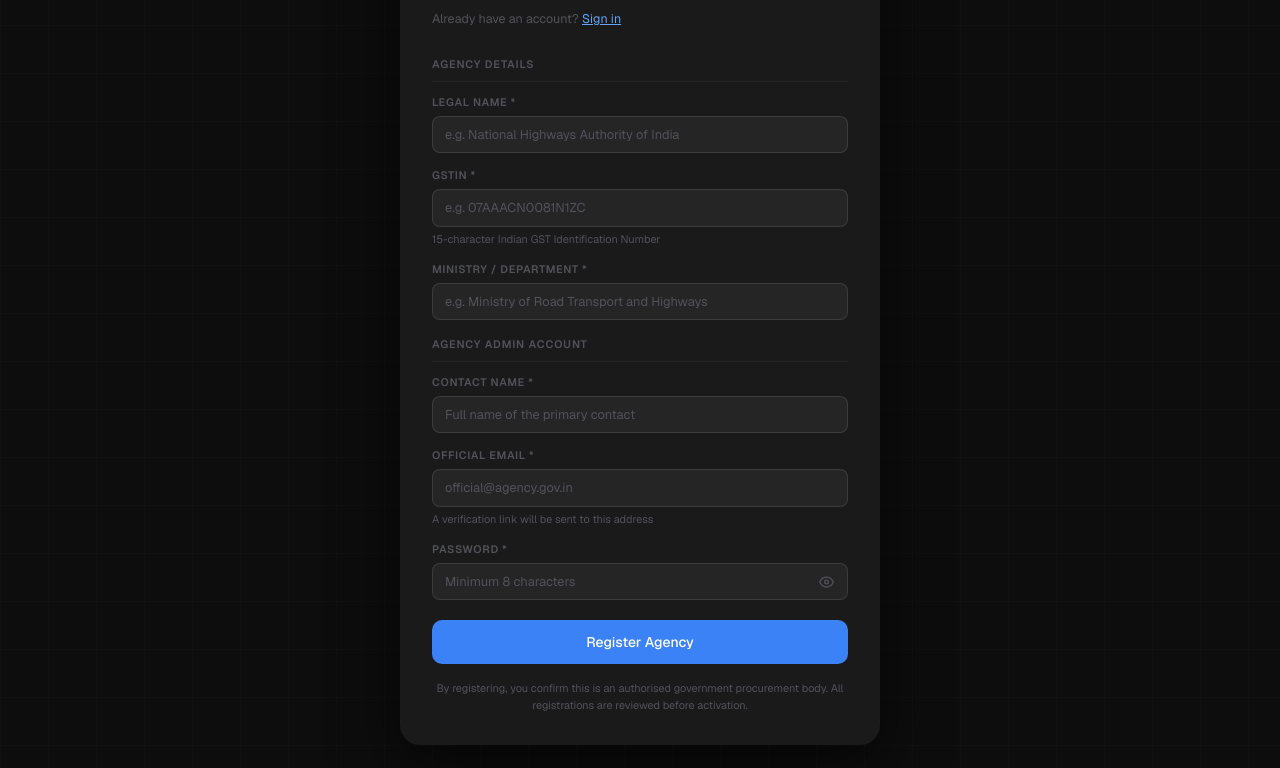
Scenario: AgencyRegistrationForm — field-level validation (Requirement 1.7) › clears a field error when the user starts typing in that field
This screenshot has width=1280, height=768.
(page scrolled)
Click the button "Register Agency". click: (640, 642)
box: [432,620,848,664]
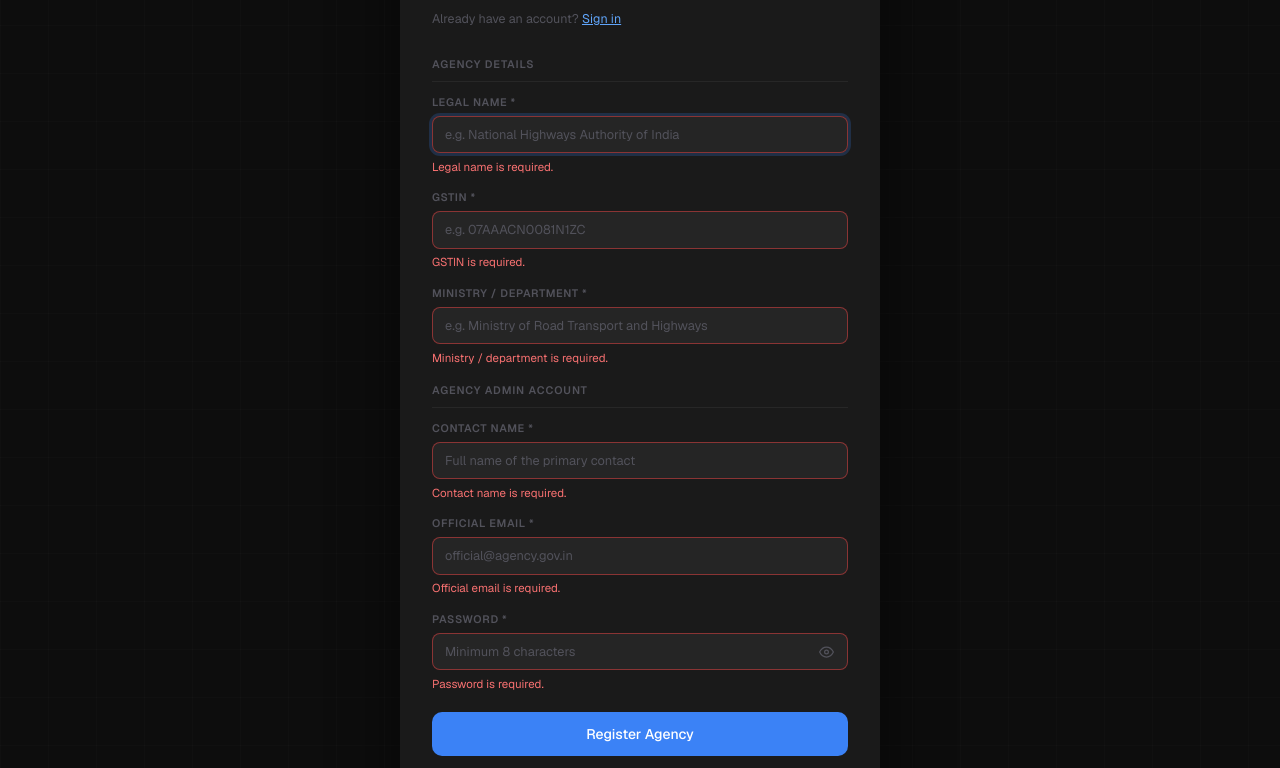
Check: the text "Legal name is required." is shown, box [432,159,553,174]
Type "A" into the field labelled "Legal Name *". click: (640, 134)
box: [432,116,848,153]
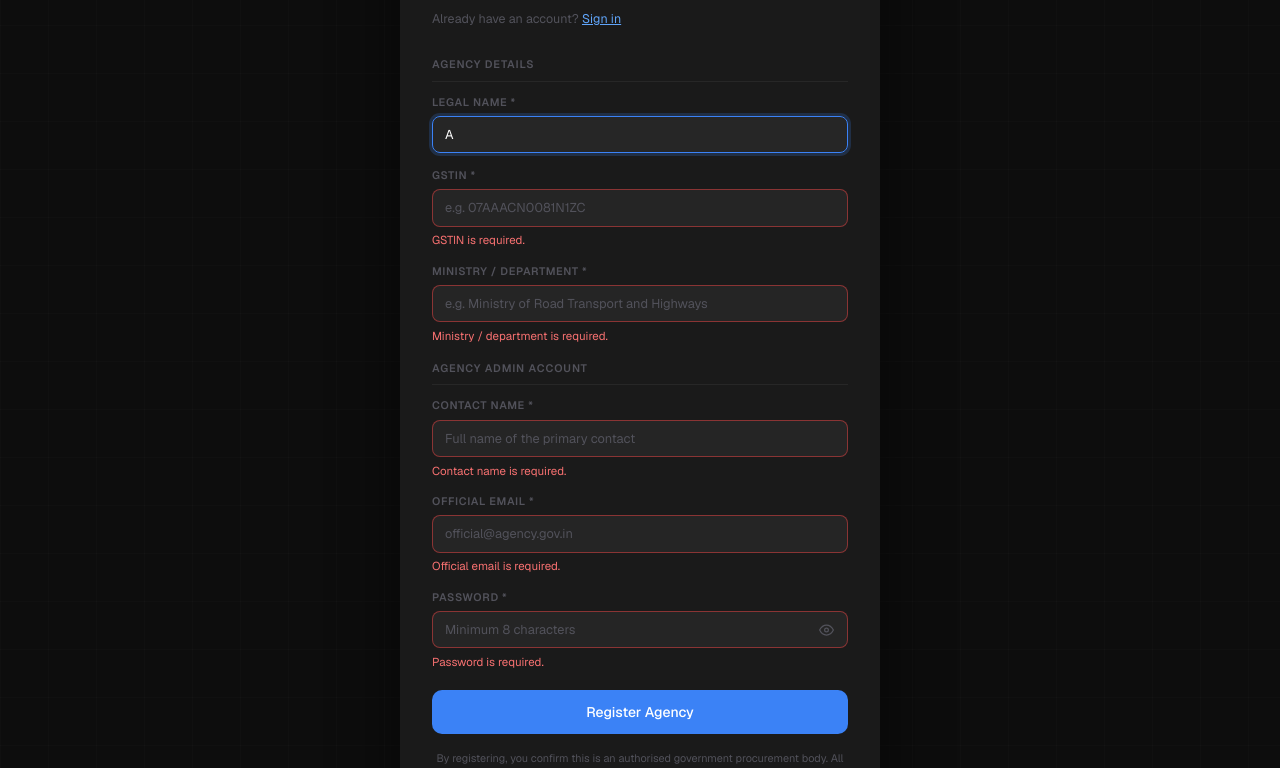
Check: the text "Legal name is required" is gone
